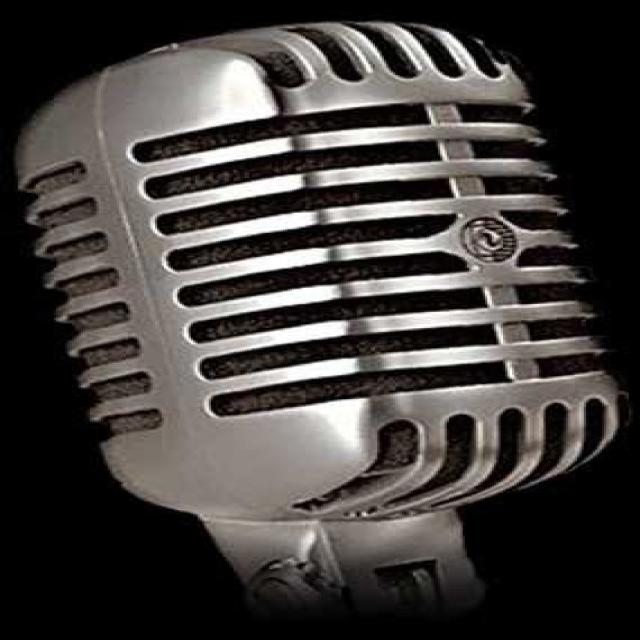microphone: (21, 25, 616, 613)
